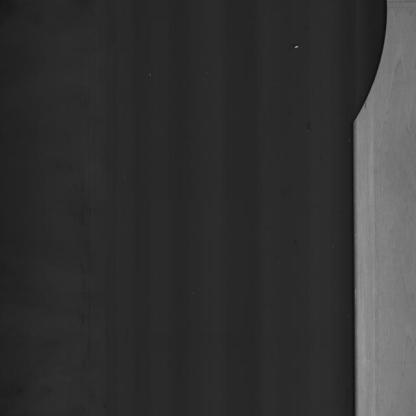crescent_gap: (330, 0, 392, 148)
